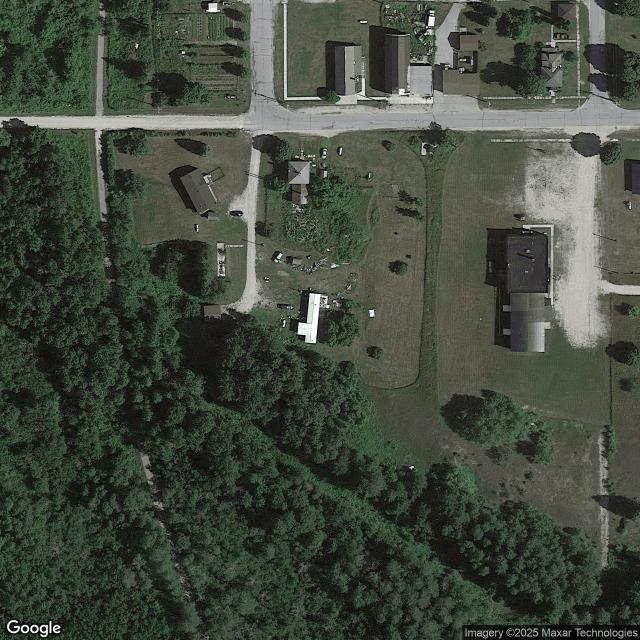Propane: (339, 147, 343, 156), (628, 202, 632, 210), (282, 320, 286, 328), (196, 224, 199, 233), (459, 59, 467, 62), (360, 20, 367, 23)
